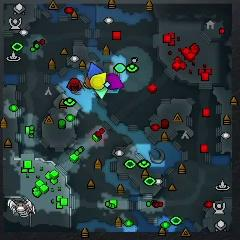p1: (88, 63, 103, 79)
p2: (94, 86, 107, 100)
p3: (107, 74, 124, 89)
p4: (91, 73, 106, 90)
p5: (85, 76, 92, 88)
